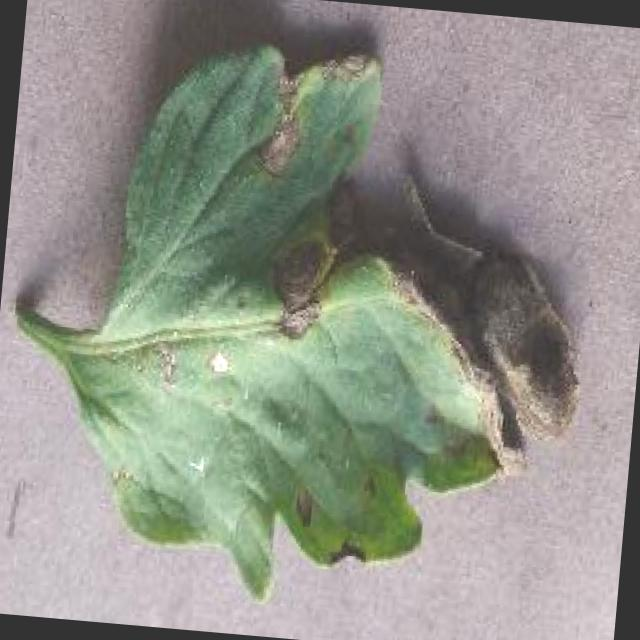leaf blight: (15, 43, 577, 606)
